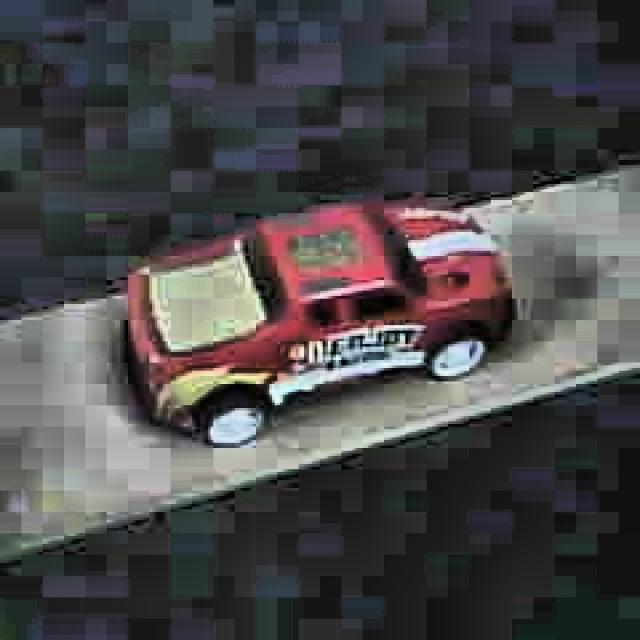car: (121, 196, 517, 449)
